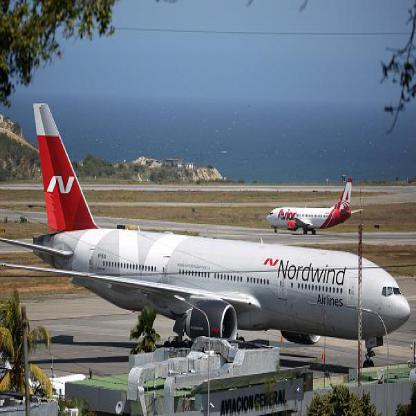CIV_Plane: (11, 99, 411, 374), (260, 170, 362, 236)
